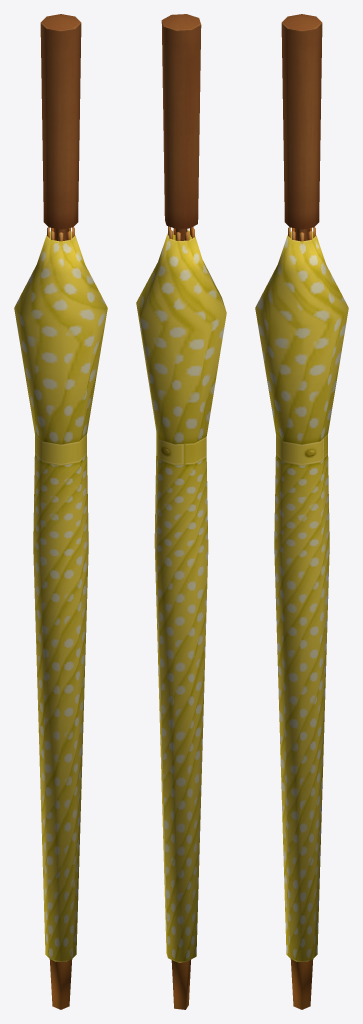
File: set_umbrella_09.fbx
3 renders of one model, left to right at view 1: azimuth 90°, elevation 25°; view 2: azimuth 210°, elevation 25°; view 3: azimuth 270°, elevation 25°, orthographic.
Visible parts, largest first — view 1: set_umbrella_09; view 2: set_umbrella_09; view 3: set_umbrella_09.
Part boxes in pixels (<box>): set_umbrella_09: <box>14,14,107,1009</box>; set_umbrella_09: <box>136,14,226,1009</box>; set_umbrella_09: <box>255,14,348,1009</box>.
Size of the model in its own units: 7.05 by 82.16 by 7.05.
